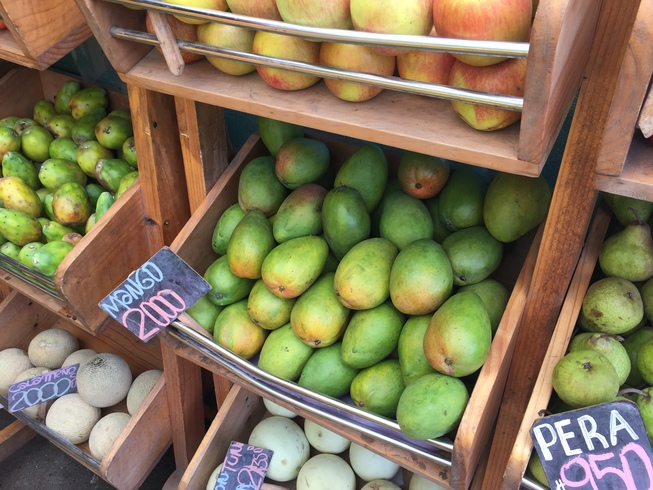precio: (101, 244, 206, 341), (535, 404, 649, 490), (7, 360, 83, 417), (212, 436, 271, 490)
